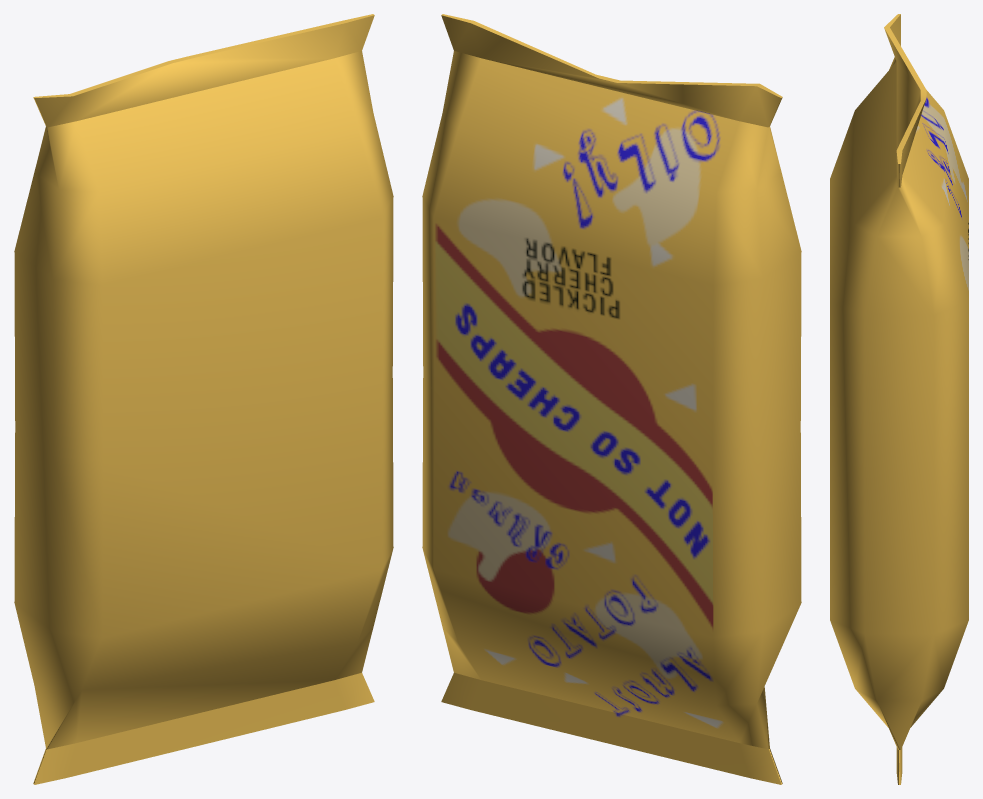
The model's file is Chips.fbx.
3 views of the same model, side by side, from view 1: azimuth 30°, elevation 25°; view 2: azimuth 150°, elevation 25°; view 3: azimuth 270°, elevation 25° (orthographic). The views are drawn at different scales.
Parts seen in each view (by area): view 1: Chips; view 2: Chips; view 3: Chips.
Part boxes in pixels (<box>): Chips: <box>14,14,393,784</box>; Chips: <box>422,14,801,784</box>; Chips: <box>830,14,968,784</box>.
Bounding box in the file's own units: 2.56 × 4.93 × 1.
